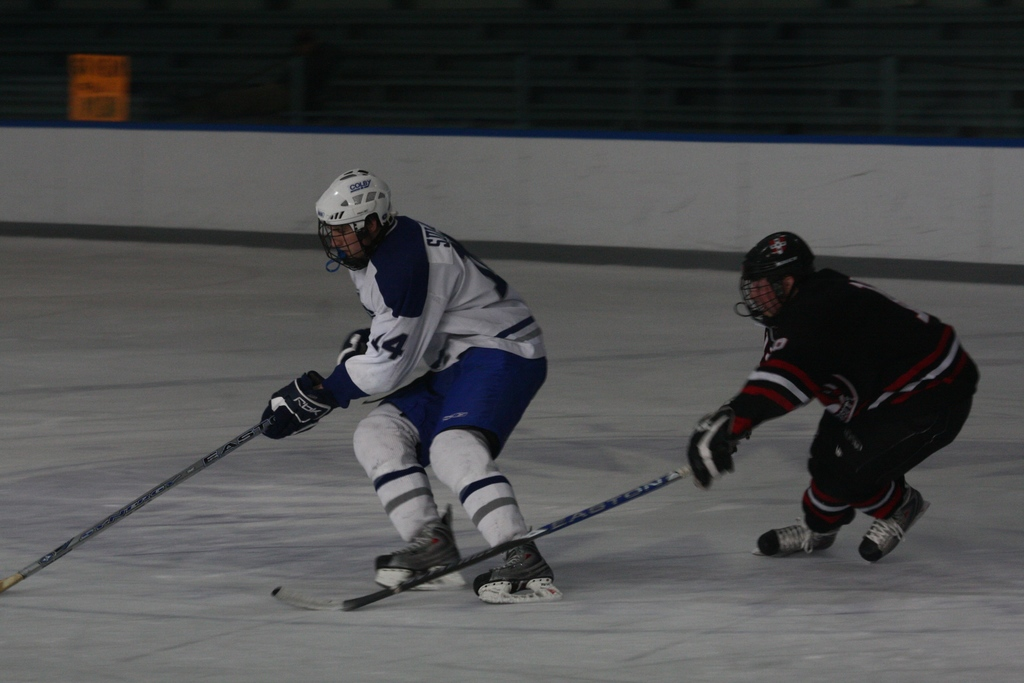Person: (259, 166, 561, 603), (687, 232, 981, 563)
